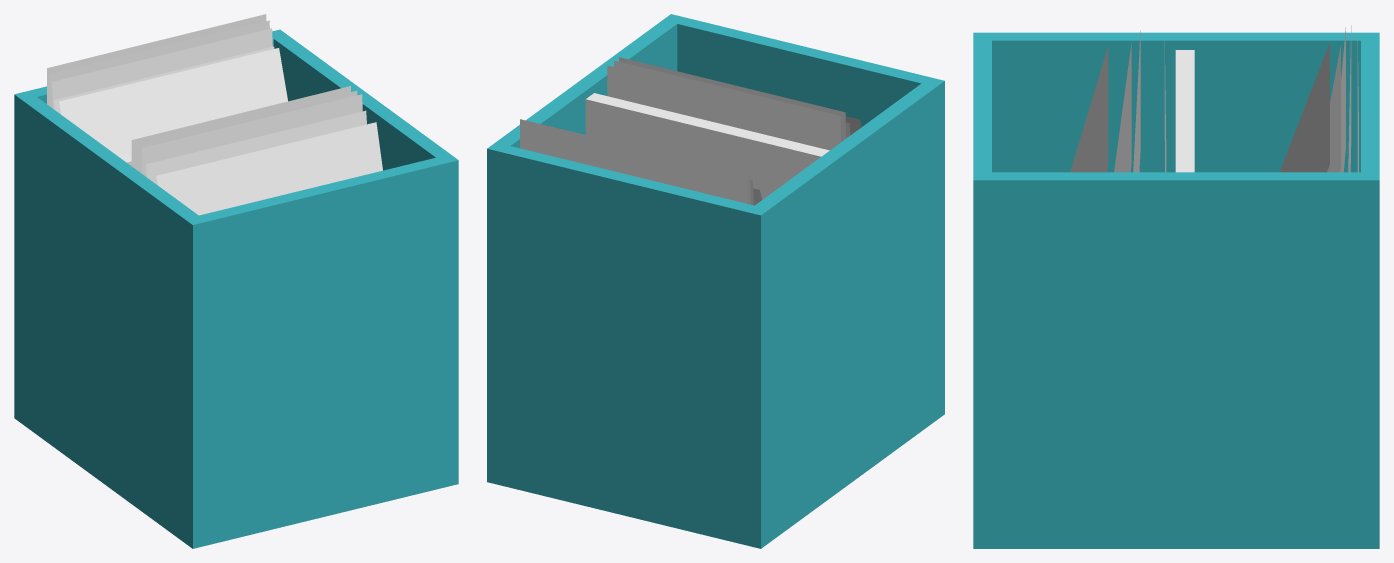
Rendered from Caja01.fbx.
3 views of the same model, side by side, from view 1: azimuth 30°, elevation 25°; view 2: azimuth 150°, elevation 25°; view 3: azimuth 270°, elevation 25° (orthographic). The views are drawn at different scales.
Visible parts, largest first — view 1: Caja01; view 2: Caja01; view 3: Caja01.
Part boxes in pixels (x1,y1,x2,y2): Caja01: (14, 14, 458, 548); Caja01: (487, 14, 944, 548); Caja01: (973, 25, 1379, 548).
Size of the model in its own units: 31.23 by 39.44 by 36.33.
